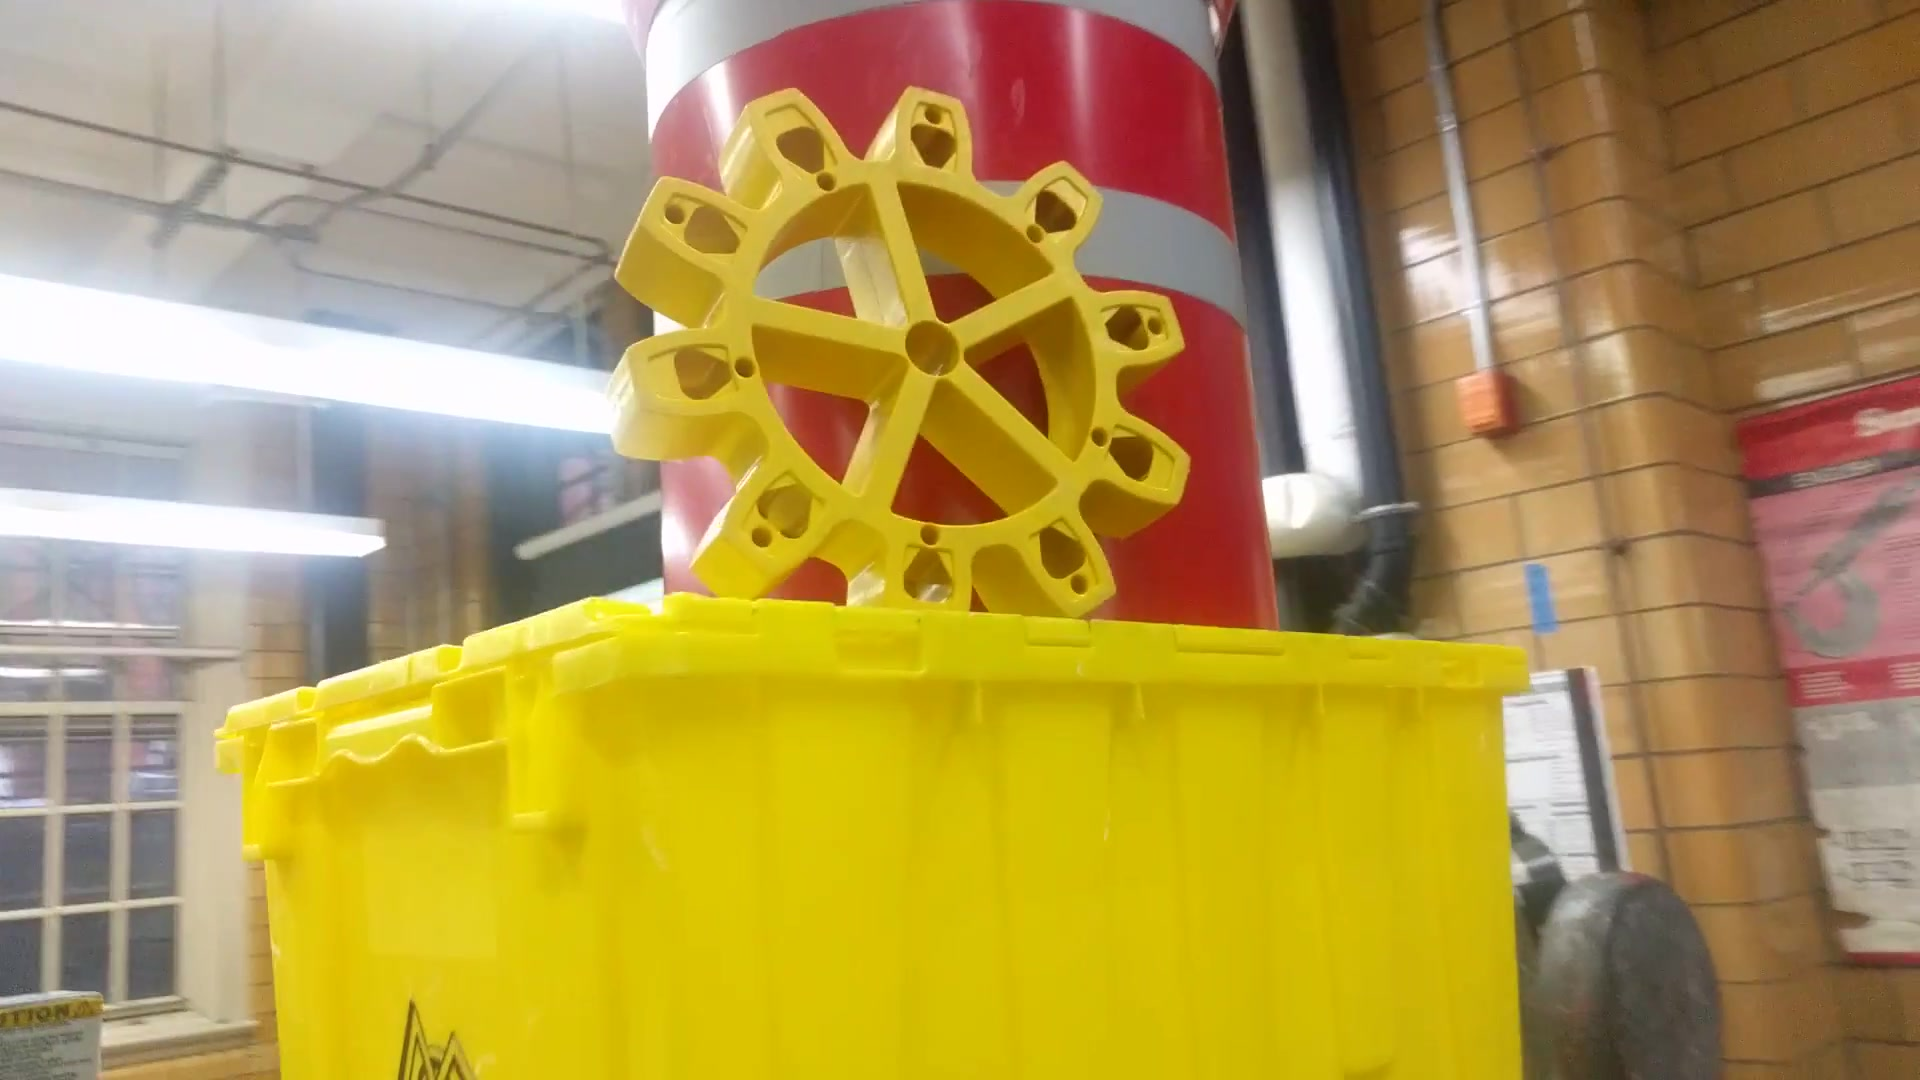gear: (603, 67, 1200, 638)
